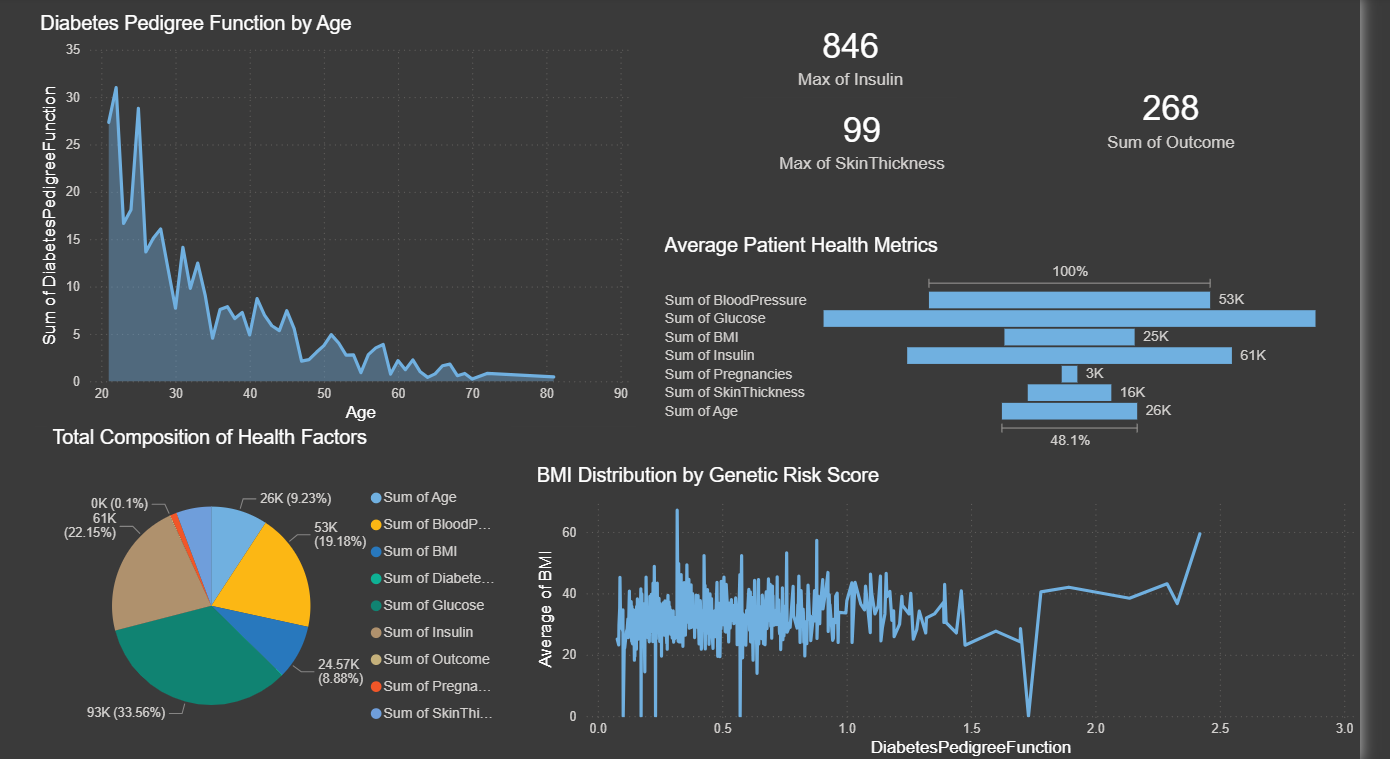

Layout of this report page (visuals, bound fields, positions):
{"tool":"powerbi","page":{"name":"Page 1","canvas":[1280,720],"ordinal":0},"visuals":[{"type":"lineChart","title":"BMI Distribution by Genetic Risk Score","fields":{"Category":["diabetes.DiabetesPedigreeFunction"],"Y":["Avg(diabetes.BMI)"]},"box":[500.8,440.3,778.6,279.7],"z":0},{"type":"stackedAreaChart","title":"Diabetes Pedigree Function by Age","fields":{"Category":["diabetes.Age"],"Y":["Sum(diabetes.DiabetesPedigreeFunction)"]},"box":[34,15.1,565,389.3],"z":1000},{"type":"pieChart","title":"Total Composition of Health Factors","fields":{"Y":["Sum(diabetes.Age)","Sum(diabetes.BloodPressure)","Sum(diabetes.BMI)","Sum(diabetes.DiabetesPedigreeFunction)","Sum(diabetes.Glucose)","Sum(diabetes.Insulin)","Sum(diabetes.Outcome)","Sum(diabetes.Pregnancies)","Sum(diabetes.SkinThickness)"]},"box":[45.3,404.8,436.1,315.7],"z":2000},{"type":"card","fields":{"Values":["Max(diabetes.Insulin)"]},"box":[698.7,14.1,201.6,81.3],"z":3000},{"type":"card","fields":{"Values":["Max(diabetes.SkinThickness)"]},"box":[687.9,96.4,245.7,75.6],"z":4000},{"type":"card","fields":{"Values":["Sum(diabetes.Outcome)"]},"box":[934.7,18.8,332.9,190.7],"z":5000},{"type":"funnel","title":"Average Patient Health Metrics","fields":{"Y":["Sum(diabetes.BloodPressure)","Sum(diabetes.Glucose)","Sum(diabetes.BMI)","Sum(diabetes.Insulin)","Sum(diabetes.Pregnancies)","Sum(diabetes.SkinThickness)","Sum(diabetes.Age)"]},"box":[620.5,223.5,626.8,206.3],"z":5001}]}

Visuals, with their boxes on the page's 1280x720 design canvas (x1, y1, x2, y2). These are canvas units, not pixel positions in the 1390x759 screenshot, which may show the page scaled, cropped or inside an application window:
"BMI Distribution by Genetic Risk Score" lineChart: bbox=(501, 440, 1279, 720)
"Diabetes Pedigree Function by Age" stackedAreaChart: bbox=(34, 15, 599, 404)
"Total Composition of Health Factors" pieChart: bbox=(45, 405, 481, 720)
card - Max(diabetes.Insulin): bbox=(699, 14, 900, 95)
card - Max(diabetes.SkinThickness): bbox=(688, 96, 934, 172)
card - Sum(diabetes.Outcome): bbox=(935, 19, 1268, 210)
"Average Patient Health Metrics" funnel: bbox=(620, 224, 1247, 430)
